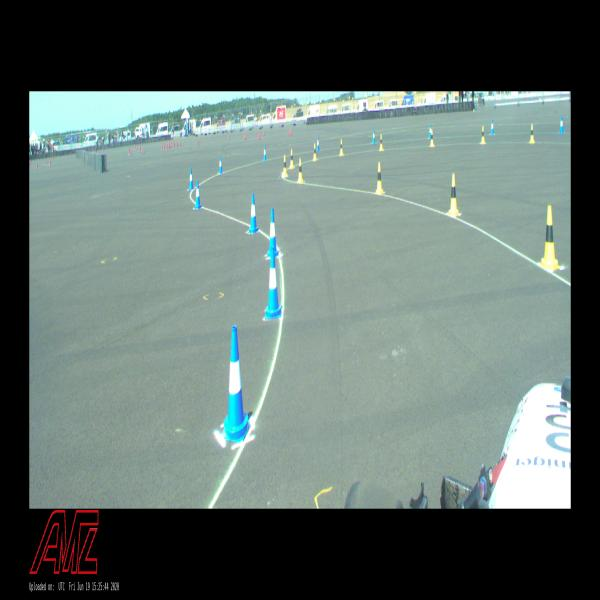blue_cone: (223, 325, 250, 443), (265, 246, 282, 320), (266, 208, 278, 258), (249, 192, 258, 234), (194, 180, 202, 209), (189, 168, 194, 190), (560, 116, 564, 134), (218, 156, 222, 173), (263, 145, 267, 161), (490, 120, 494, 136), (372, 129, 376, 144), (428, 124, 432, 138), (316, 137, 320, 151)
orange_cone: (263, 129, 265, 138), (228, 134, 230, 140)
yellow_cone: (541, 205, 559, 270), (448, 173, 459, 216), (376, 162, 383, 194), (297, 158, 303, 183), (282, 156, 288, 178), (529, 124, 535, 144), (378, 134, 384, 152), (339, 139, 344, 156), (290, 148, 294, 169), (312, 144, 317, 160), (481, 126, 485, 144), (430, 130, 434, 148), (128, 149, 130, 154), (36, 163, 37, 168)
